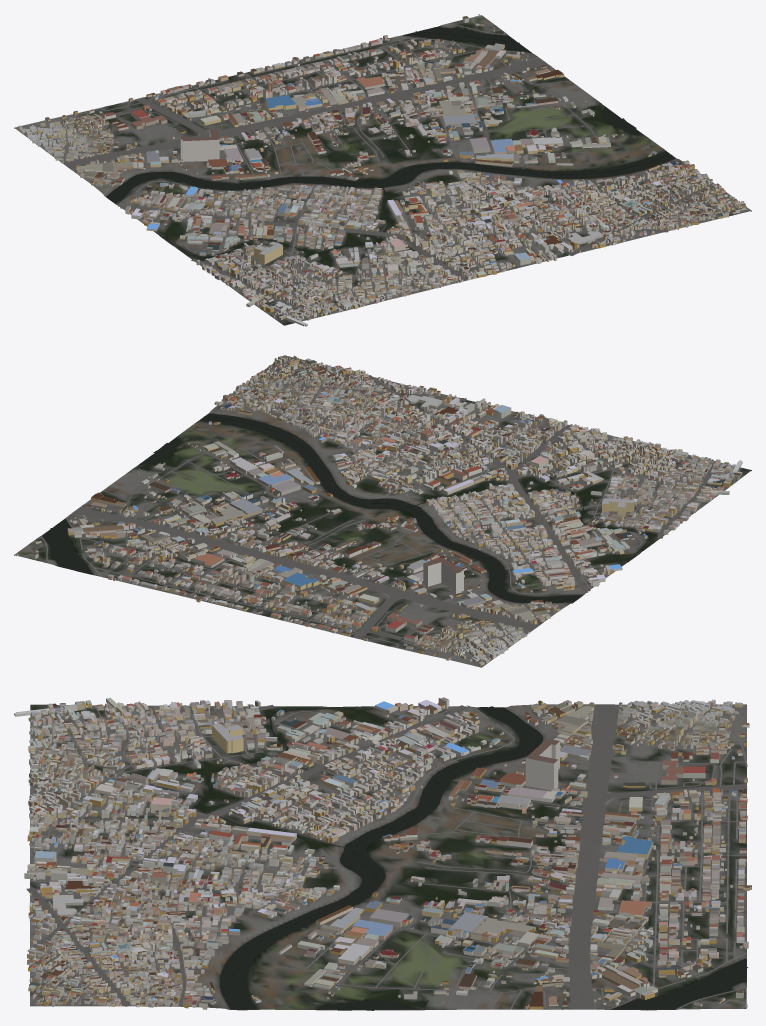
3 views of the same model, one above another, from view 1: azimuth 30°, elevation 25°; view 2: azimuth 150°, elevation 25°; view 3: azimuth 270°, elevation 25° (orthographic). The views are drawn at different scales.
Visible parts, largest first — view 1: buildings, ground, roads, water; view 2: buildings, ground, roads, water; view 3: buildings, ground, roads, water.
Boxes of the visible parts, box(x1,y1,x2,y2) form: buildings: box(18, 14, 746, 326); ground: box(14, 15, 751, 325); roads: box(21, 16, 751, 322); water: box(106, 26, 675, 257); buildings: box(16, 355, 742, 665); ground: box(14, 355, 751, 667); roads: box(16, 355, 740, 665); water: box(42, 413, 650, 602); buildings: box(14, 697, 751, 1009); ground: box(30, 704, 746, 1010); roads: box(26, 704, 747, 1009); water: box(198, 706, 747, 1010).
Size of the model in its own units: 1431 by 65.04 by 1442.
